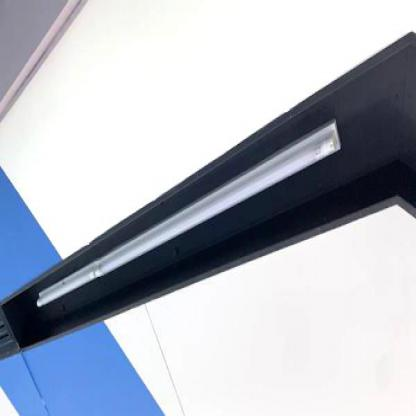light_off: (30, 106, 344, 320)
